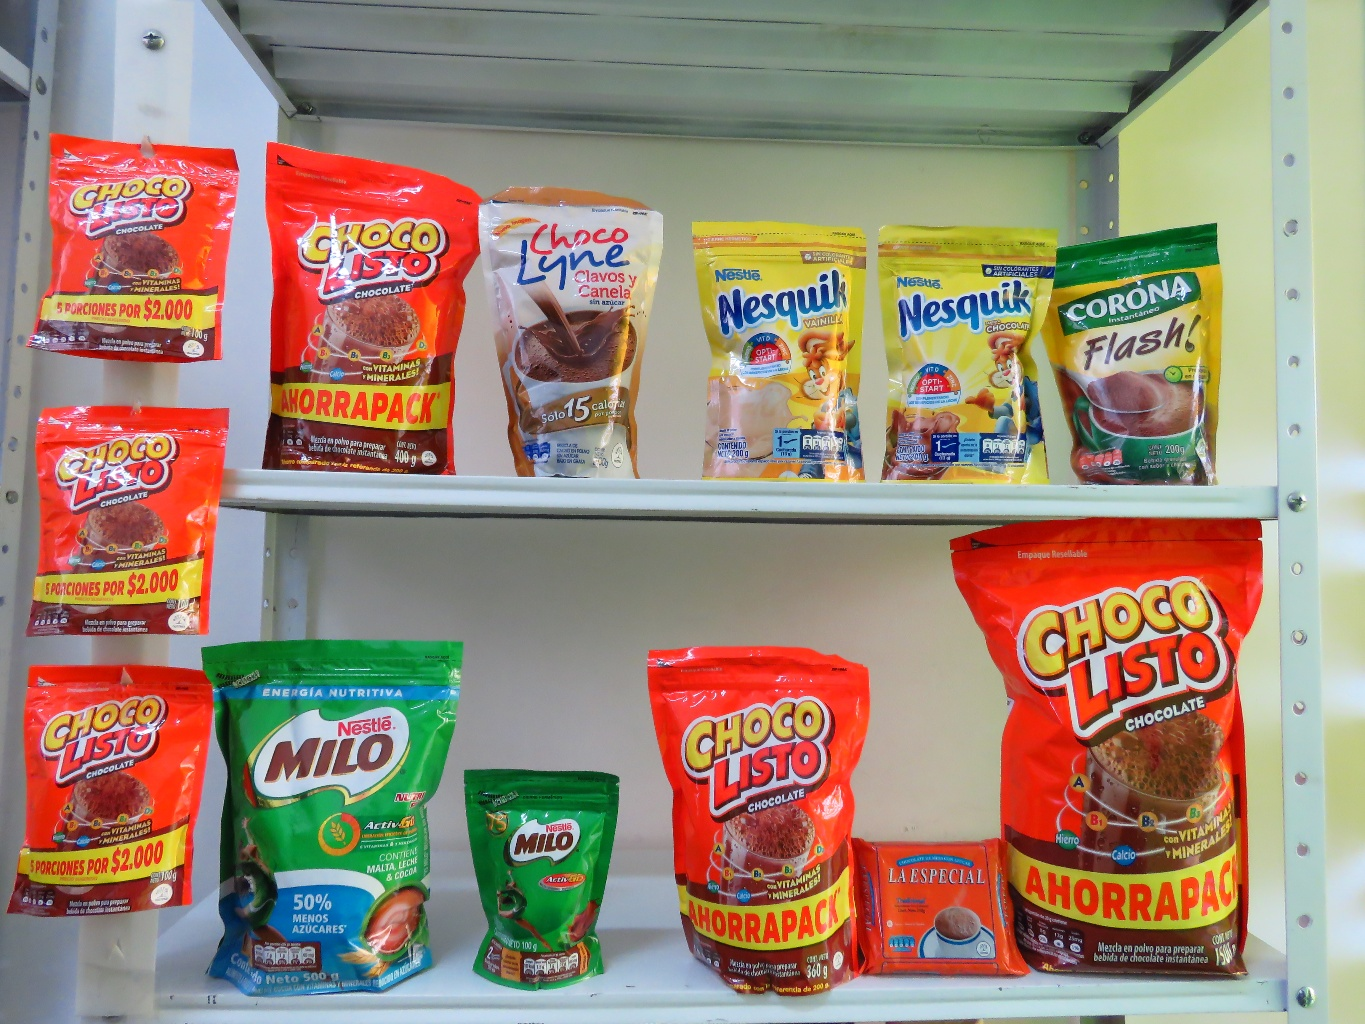COL0170103DYP1,500: (963, 520, 1261, 980)
COL0170103DYP10000: (23, 656, 211, 915)
COL0170103DYP36000: (653, 640, 863, 999)
COL0170103DYP40000: (259, 134, 472, 475)
COL0170203DYP10000: (456, 758, 620, 994)
COL0170205DYP50000: (207, 635, 470, 990)
COL0170303DYP20000: (875, 227, 1058, 482)
COL0170306DYP20000: (687, 218, 873, 475)
